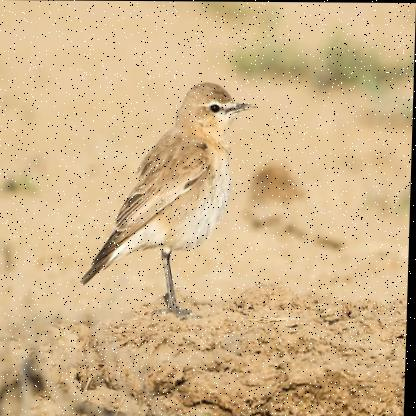Burung: (79, 78, 256, 315)
